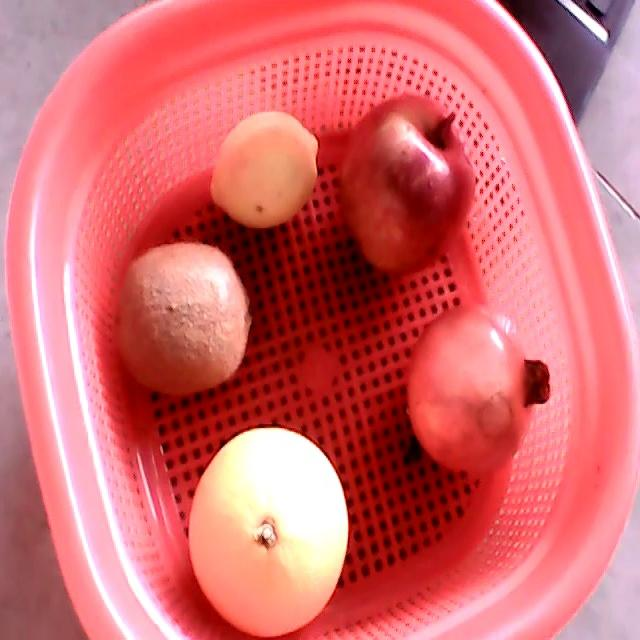apple: (339, 92, 476, 277)
kiwi: (117, 242, 252, 396)
lemon: (210, 112, 319, 230)
orange: (188, 426, 349, 639)
pomegranate: (406, 303, 551, 472)
